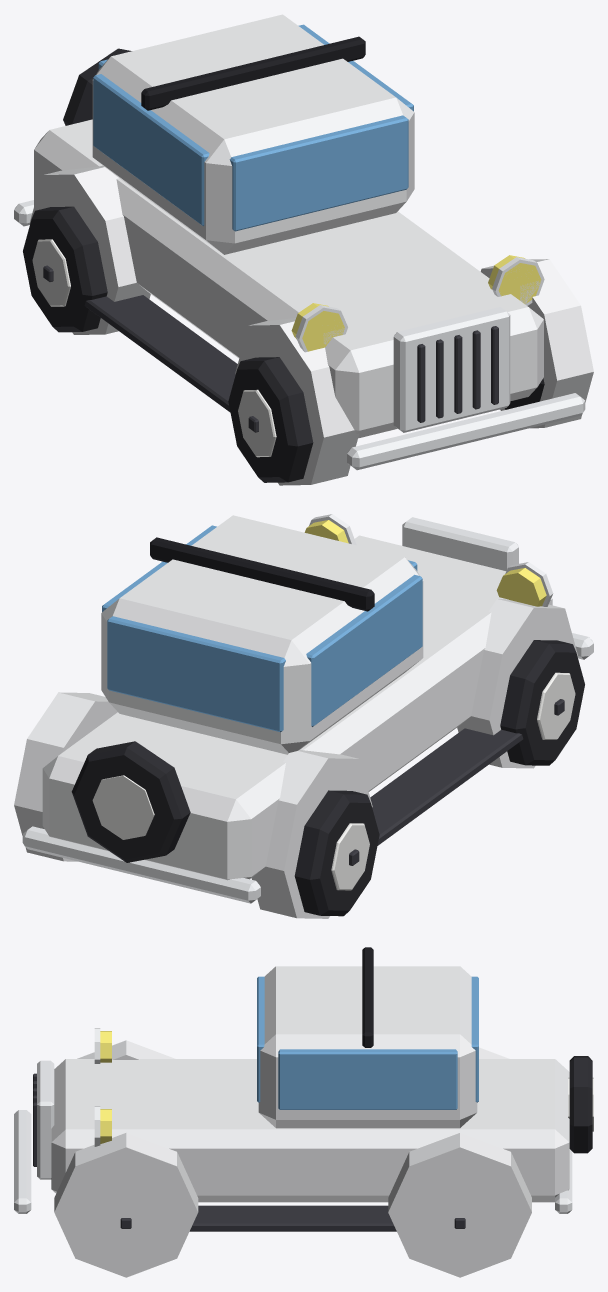
Rendered from WhiteClassicCar.fbx.
The picture shows the model from 3 angles, top to bottom: view 1: azimuth 30°, elevation 25°; view 2: azimuth 150°, elevation 25°; view 3: azimuth 270°, elevation 25°; orthographic projection. The views are drawn at different scales.
Parts seen in each view (by area): view 1: WhiteClassicCar, WhiteClassicCar_WheelFR, WhiteClassicCar_WheelBR; view 2: WhiteClassicCar, WhiteClassicCar_WheelBR, WhiteClassicCar_WheelFR; view 3: WhiteClassicCar.
Part boxes in pixels (bbox=[...]): WhiteClassicCar: bbox=[14, 14, 593, 485]; WhiteClassicCar_WheelFR: bbox=[228, 357, 313, 482]; WhiteClassicCar_WheelBR: bbox=[23, 206, 107, 332]; WhiteClassicCar: bbox=[14, 514, 593, 918]; WhiteClassicCar_WheelBR: bbox=[294, 790, 379, 916]; WhiteClassicCar_WheelFR: bbox=[500, 640, 584, 765]; WhiteClassicCar: bbox=[14, 947, 593, 1277].
Size of the model in its own units: 4.92 by 4.4 by 10.08.
Materials: 1 (1 with a texture image).
